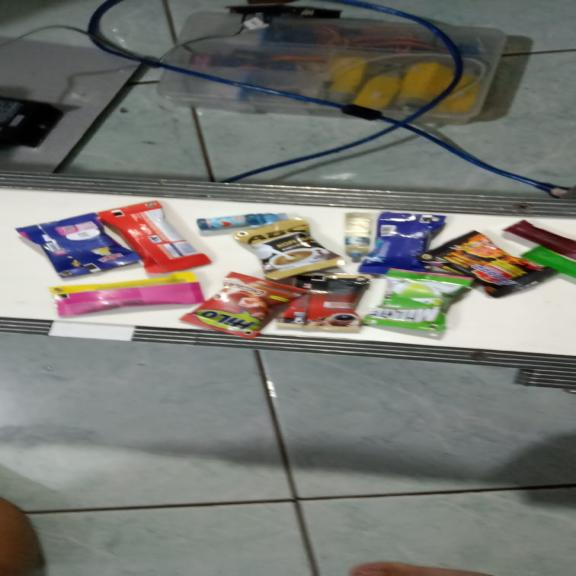Plastik: (416, 230, 558, 298), (178, 272, 310, 339), (96, 201, 212, 273), (15, 213, 143, 277), (233, 217, 347, 280), (361, 268, 473, 332), (48, 273, 204, 316), (278, 272, 373, 331), (360, 211, 446, 274), (503, 219, 576, 260), (520, 246, 576, 278), (197, 213, 288, 230), (344, 212, 374, 258)
